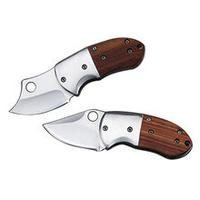knife: (8, 36, 196, 167)
